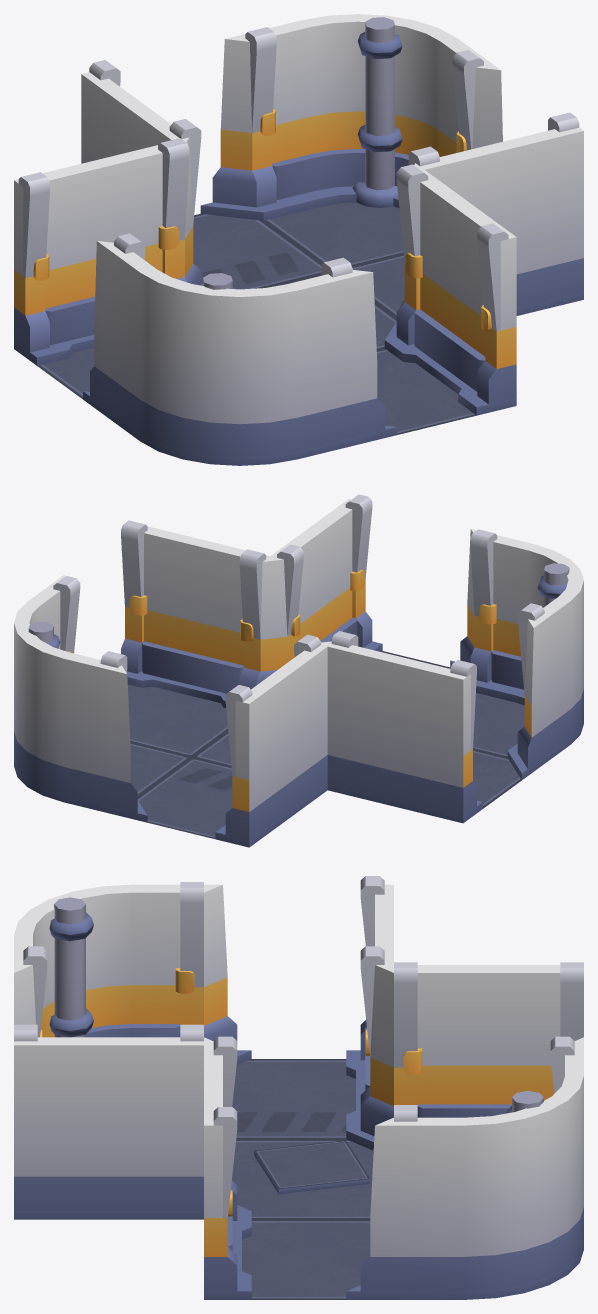
The model's file is kenney-space-room-small-variation.glb.
3 renders of one model, top to bottom at view 1: azimuth 30°, elevation 25°; view 2: azimuth 150°, elevation 25°; view 3: azimuth 270°, elevation 25°, orthographic. The views are drawn at different scales.
Visible parts, largest first — view 1: room-small-variation; view 2: room-small-variation; view 3: room-small-variation.
Part boxes in pixels (x1,y1,x2,y2): room-small-variation: [14, 14, 583, 465]; room-small-variation: [14, 494, 583, 847]; room-small-variation: [14, 876, 583, 1299].
Size of the model in its own units: 9 by 3.19 by 9.
1 material, 1 textured.
